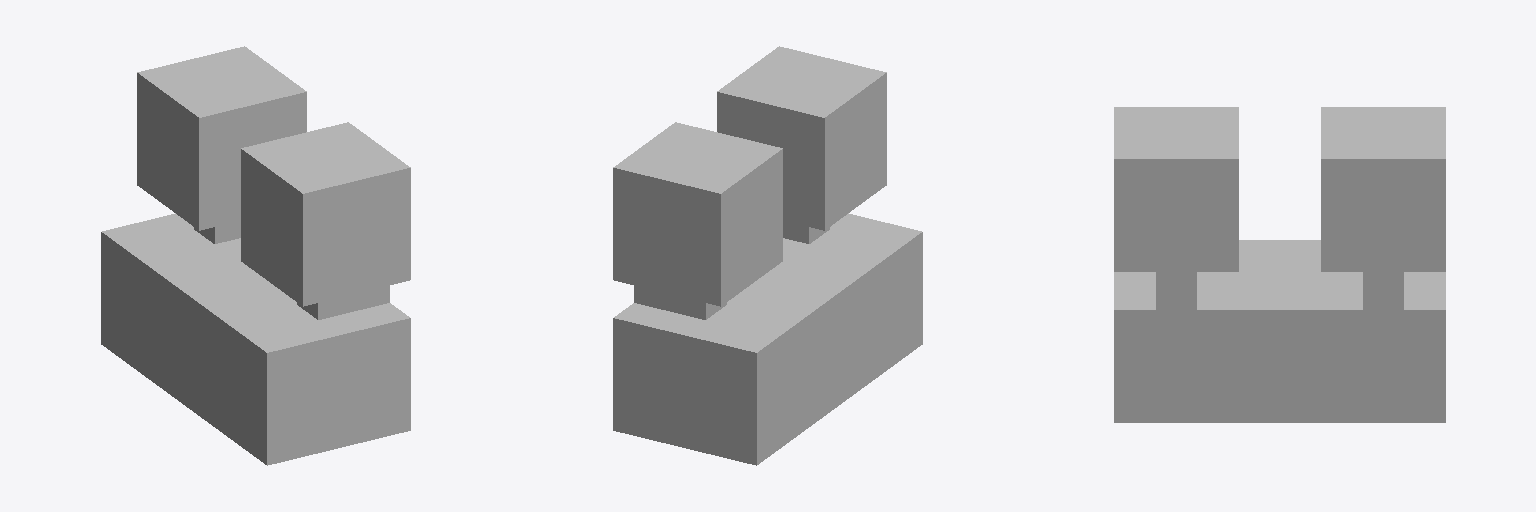
The model's file is HarrisL_TheVault_Heist-30.obj.
3 renders of one model, left to right at view 1: azimuth 30°, elevation 25°; view 2: azimuth 150°, elevation 25°; view 3: azimuth 270°, elevation 25°, orthographic.
Visible parts, largest first — view 1: HarrisL_TheVault_Heist-30; view 2: HarrisL_TheVault_Heist-30; view 3: HarrisL_TheVault_Heist-30.
Boxes of the visible parts, <box> form: HarrisL_TheVault_Heist-30: <box>101,46,410,465</box>; HarrisL_TheVault_Heist-30: <box>613,46,922,465</box>; HarrisL_TheVault_Heist-30: <box>1114,107,1445,422</box>.
Size of the model in its own units: 4 by 7 by 8.